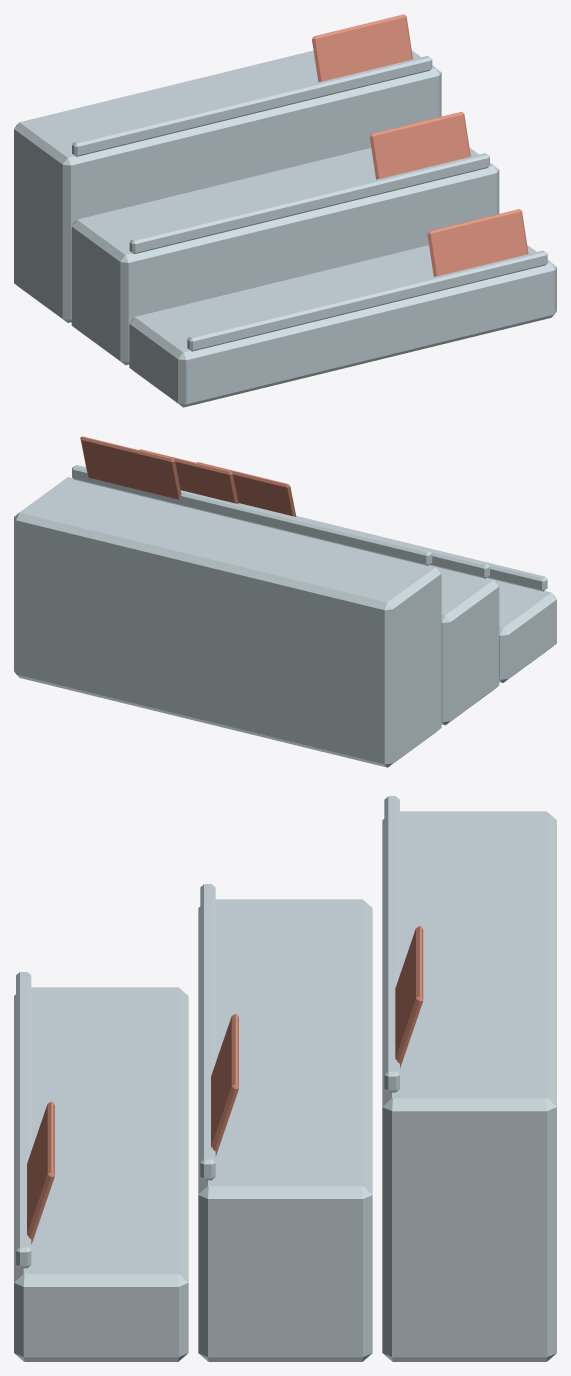
3 views of the same model, one above another, from view 1: azimuth 30°, elevation 25°; view 2: azimuth 150°, elevation 25°; view 3: azimuth 270°, elevation 25° (orthographic). The views are drawn at different scales.
Visible parts, largest first — view 1: counter-display-riser; view 2: counter-display-riser; view 3: counter-display-riser.
Boxes of the visible parts, left/top/right/bottom form: counter-display-riser: left=14, top=14, right=556, bottom=407; counter-display-riser: left=14, top=436, right=556, bottom=767; counter-display-riser: left=14, top=796, right=556, bottom=1361.
Bounding box in the file's own units: 0.36 × 0.1979 × 0.28.
